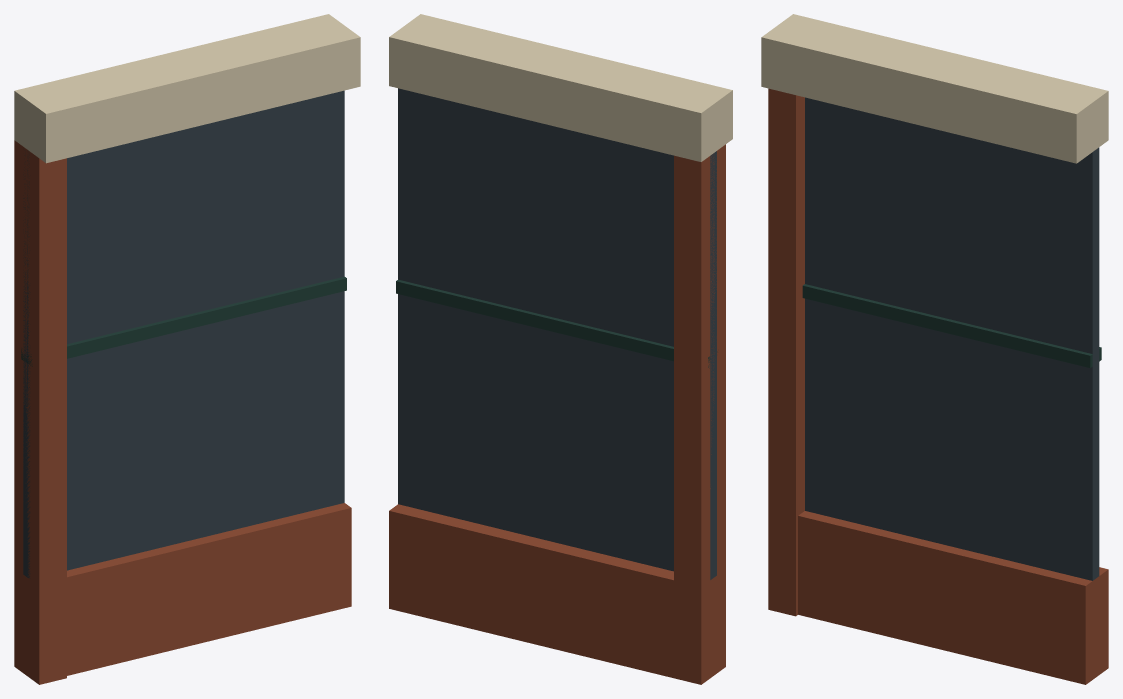
Rendered from iron-wall.glb.
The picture shows the model from 3 angles, left to right: view 1: azimuth 30°, elevation 25°; view 2: azimuth 150°, elevation 25°; view 3: azimuth 330°, elevation 25°; orthographic projection.
Parts seen in each view (by area): view 1: iron-wall; view 2: iron-wall; view 3: iron-wall.
Boxes of the visible parts, x1=… form: iron-wall: x1=14, y1=14, x2=360, y2=684; iron-wall: x1=389, y1=14, x2=732, y2=684; iron-wall: x1=761, y1=14, x2=1108, y2=684.
Size of the model in its own units: 4 by 7 by 0.7.
